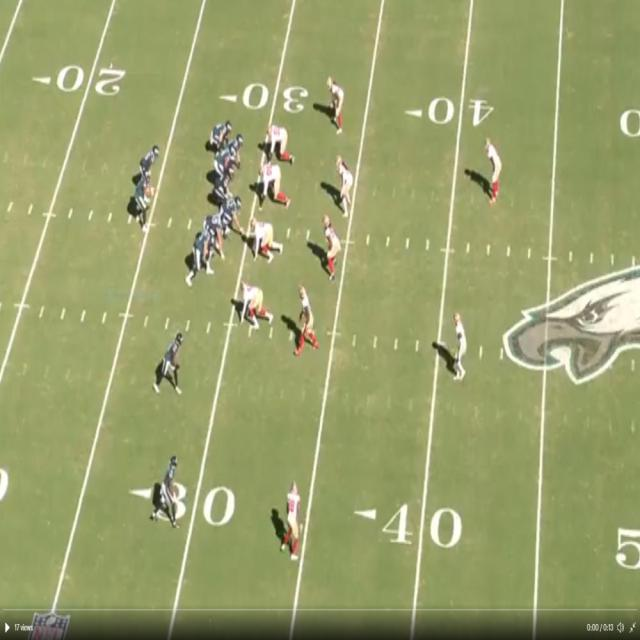center: (223, 199, 246, 240)
db: (298, 284, 318, 348), (286, 482, 302, 562), (484, 138, 503, 196), (327, 80, 342, 131), (455, 314, 466, 382)
lb: (322, 212, 339, 286), (334, 159, 352, 216)
qb: (132, 170, 150, 232)
